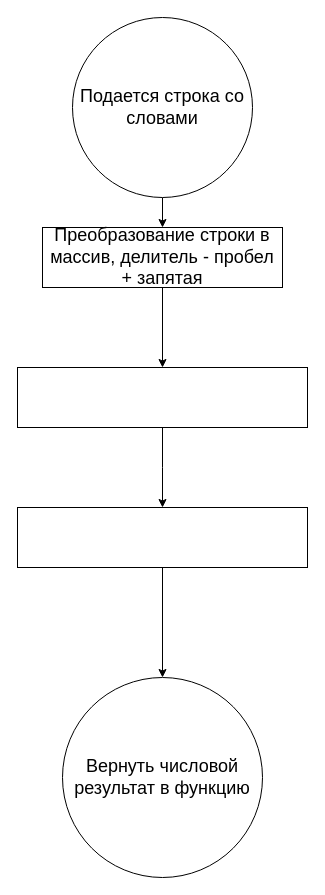
The diagram is 325 pixels wide and 895 high, and some of its shapes have lost their labels. Each missing label, with the box of its shape:
Измерить длину элемента: (16, 506, 308, 568)
Ищем наименьший (е) по длине элемент(ы) массива: (16, 366, 308, 428)
